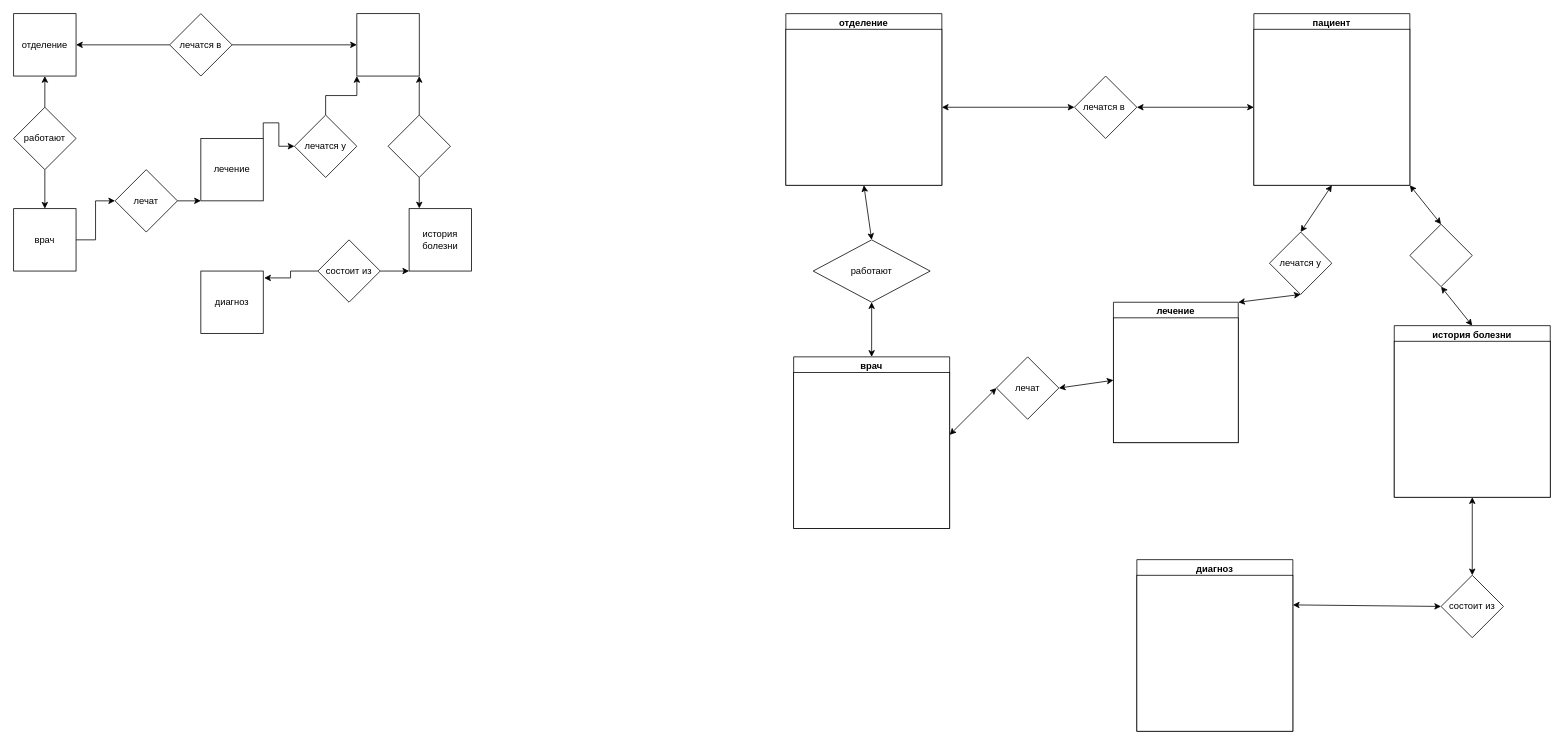
The diagram is 1564 pixels wide and 745 high, and some of its shapes have lost their labels. The centre of each missing label's shape, as x and y in pixels:
"Айди(пк) адрес название отделения" belongs at (x=863, y=106).
"айди(пк) Айди врача айди пациента дата приема" belongs at (x=1175, y=380).
"айди(пк) айди диагноза дата заболевания дата исцеления" belongs at (x=1471, y=418).
"айди(пк) айди отделения() должность оклад фамилия имя отчество" belongs at (x=871, y=450).
"айди(пк) название болезни" belongs at (x=1214, y=652).
"айди(пк) фамилия имя отчество возраст пол айди отделения айди истории болезни" belongs at (x=1331, y=106).
"владеет" belongs at (x=1440, y=255).
"владеют" belongs at (x=418, y=145).
"пациет" belongs at (x=387, y=44).
